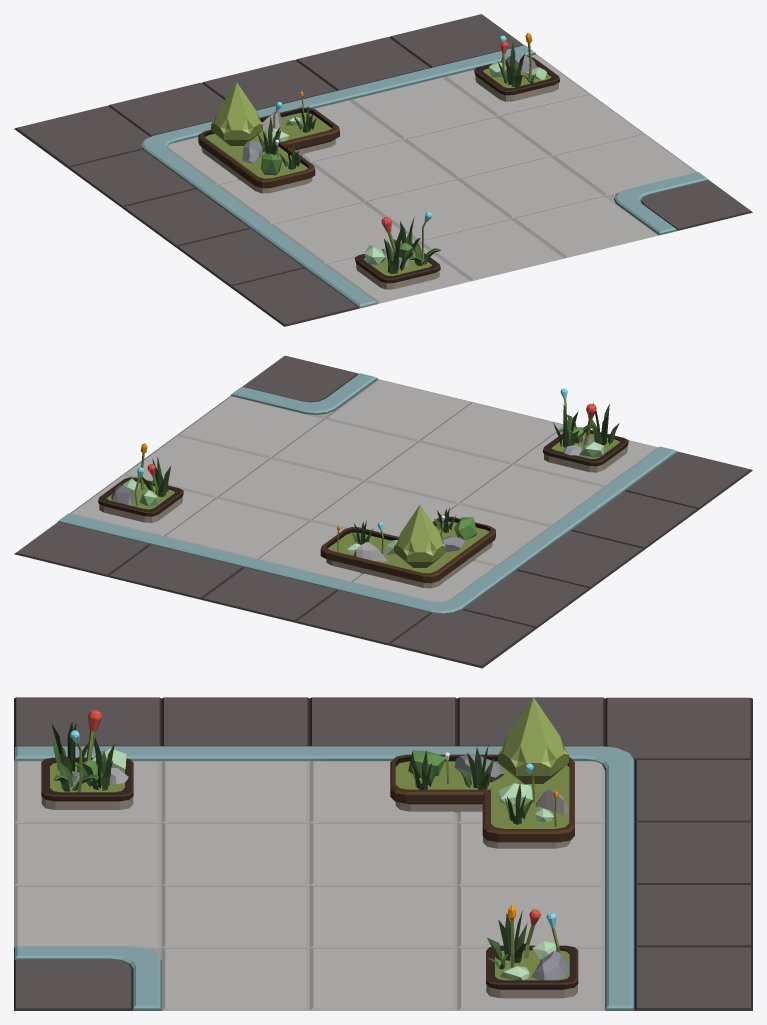
File: Corner_C.glb
3 renders of one model, top to bottom at view 1: azimuth 30°, elevation 25°; view 2: azimuth 150°, elevation 25°; view 3: azimuth 270°, elevation 25°, orthographic. The views are drawn at different scales.
Visible parts, largest first — view 1: Corner_C, Cube.272, Cone.134, Cube.267, Cube.270, Grass_03.620, Grass_03.623; view 2: Corner_C, Cube.272, Cone.134, Cube.270, Cube.267; view 3: Corner_C, Cube.272, Cone.134, Cube.270, Cube.267, Grass_03.623, Grass_03.627, Grass_03.620, Rock_08.078, Grass_03.619, Tree_03.1502, Rock_010.015.
Boxes of the visible parts, x1,y1,x2,y2 form: Corner_C: (14,14,752,326); Cube.272: (198,107,339,193); Cone.134: (211,82,262,145); Cube.267: (355,248,440,289); Cube.270: (474,56,559,101); Grass_03.620: (384,227,414,274); Grass_03.623: (497,42,525,86); Corner_C: (14,355,752,668); Cube.272: (320,516,495,588); Cone.134: (394,504,446,567); Cube.270: (98,477,183,522); Cube.267: (543,427,628,472); Corner_C: (14,697,752,1010); Cube.272: (390,754,574,848); Cone.134: (498,697,569,783); Cube.270: (486,945,578,998); Cube.267: (41,757,133,809); Grass_03.623: (487,910,527,963); Grass_03.627: (458,745,494,789); Grass_03.620: (51,721,88,774); Rock_08.078: (531,950,569,980); Grass_03.619: (82,735,114,790); Tree_03.1502: (408,750,445,778); Rock_010.015: (454,754,504,782).
Size of what is drawn, in the model's own units: 16 by 2.36 by 16.
1 material, 1 textured.
